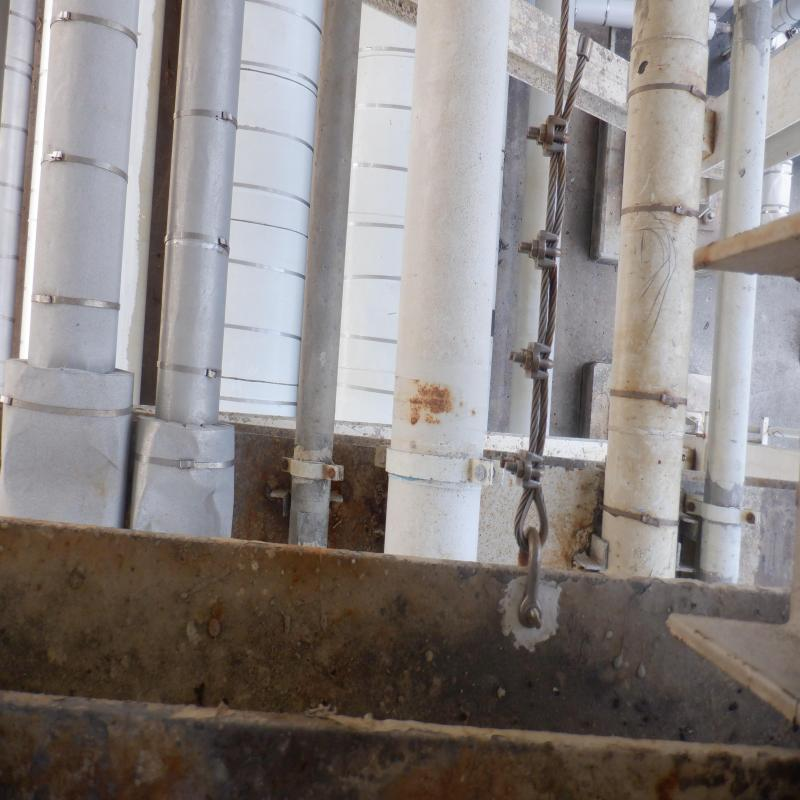corrosion: (415, 382, 450, 417)
